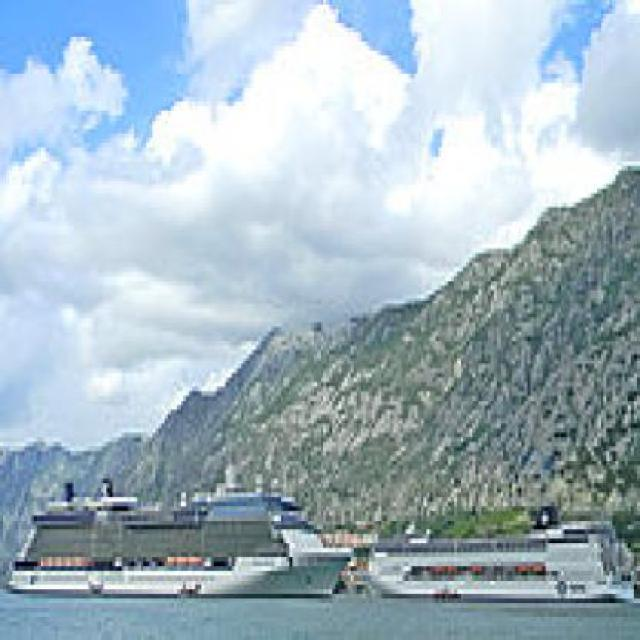cruise: (10, 447, 364, 604), (360, 503, 639, 627)
